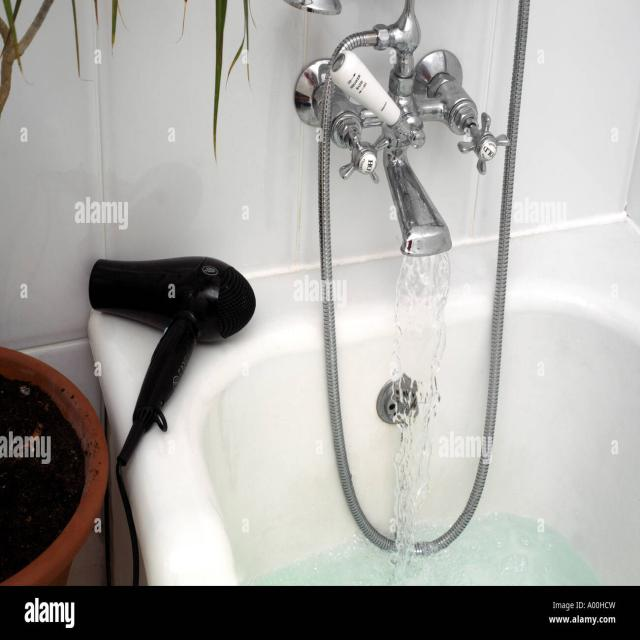dryer: (71, 224, 265, 472)
